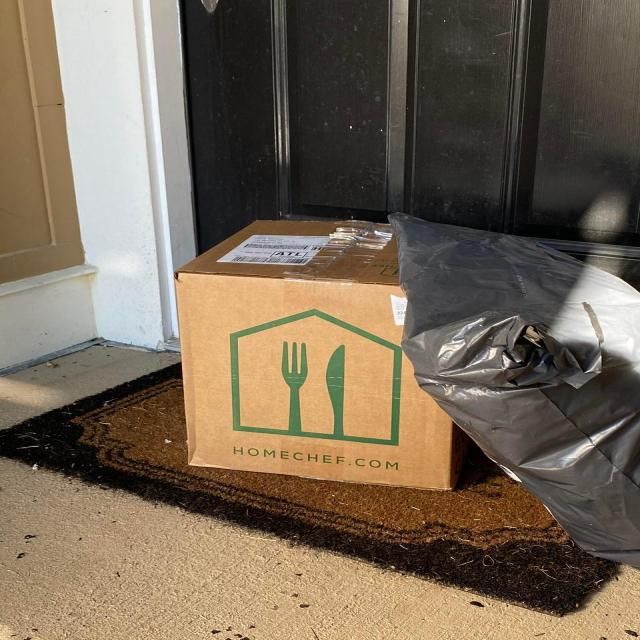cardboard: (172, 217, 459, 493)
